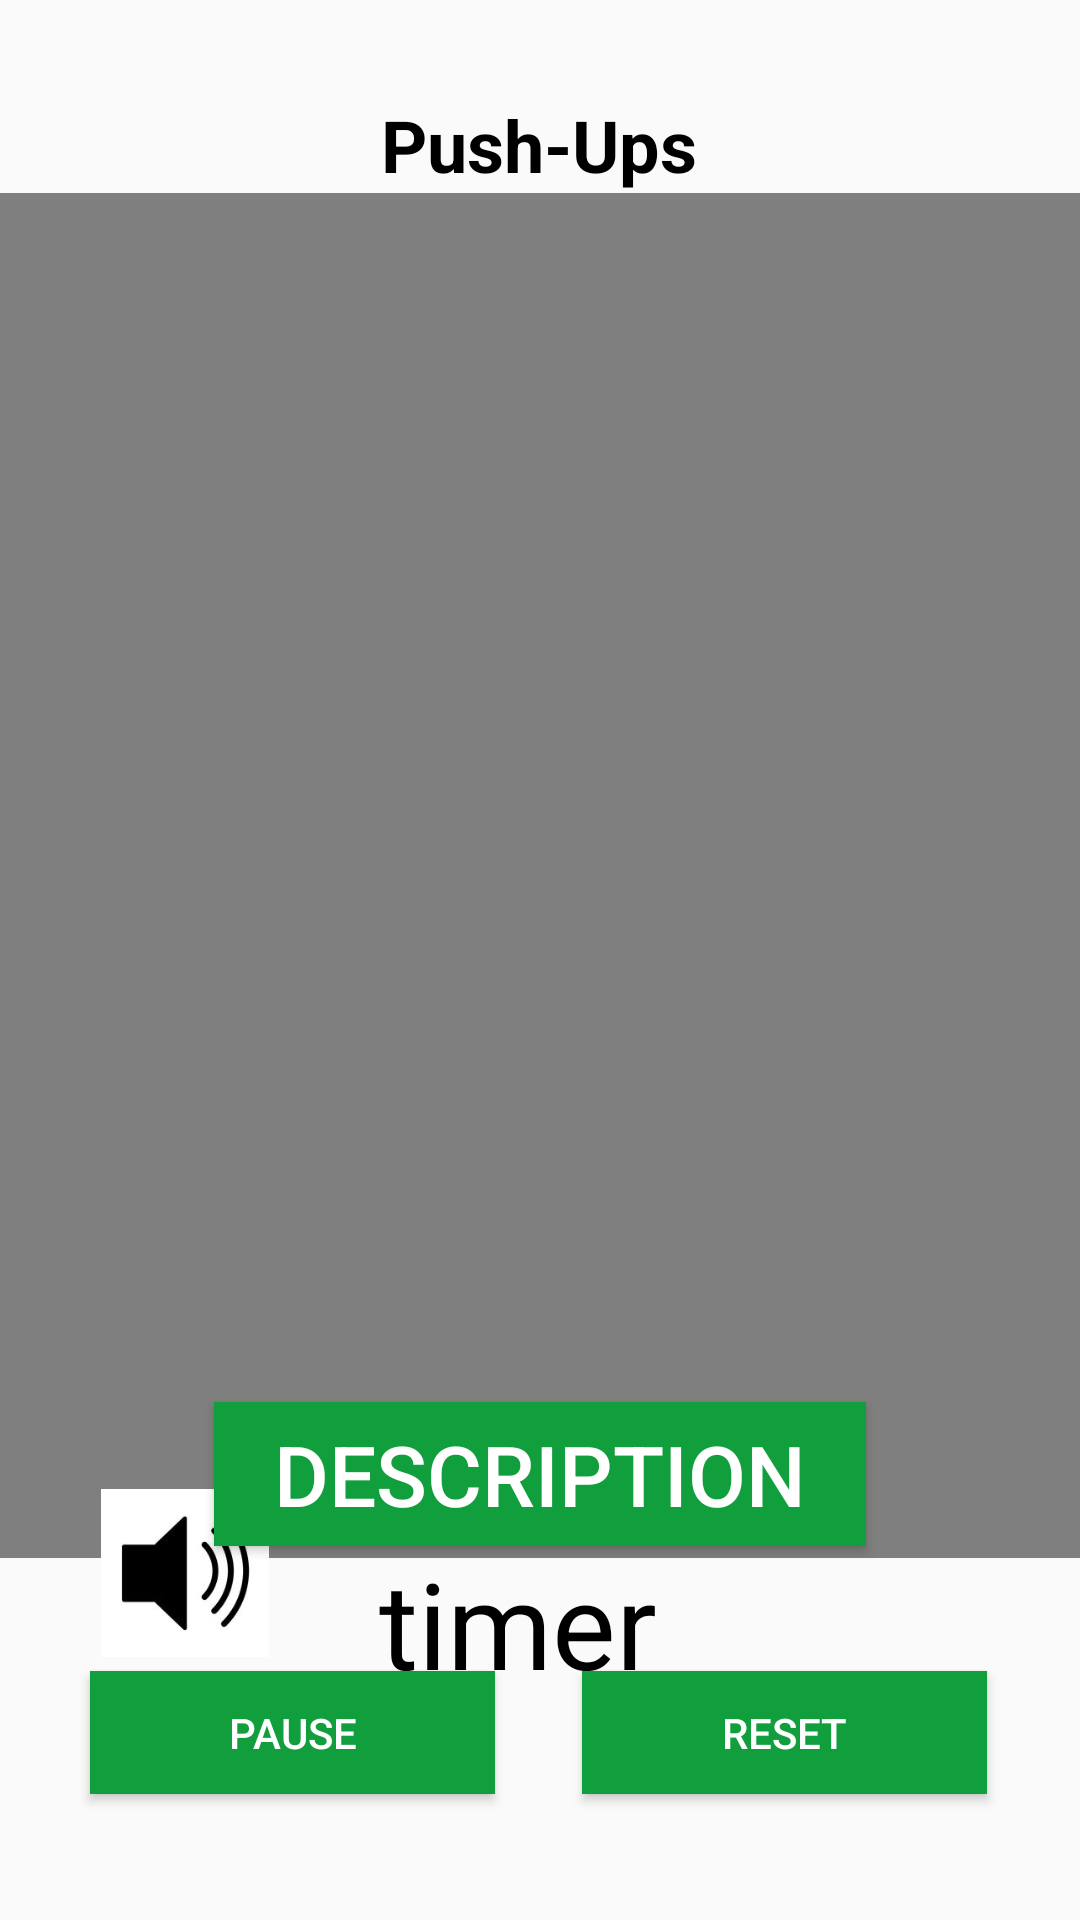

Where to tap for icons on this 1080w x 1920h app screen, as point (x, y):
speakericon: point (185, 1573)
